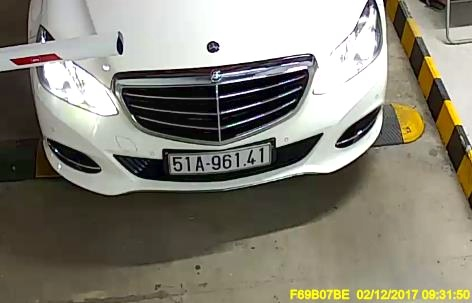plate: (164, 143, 273, 176)
